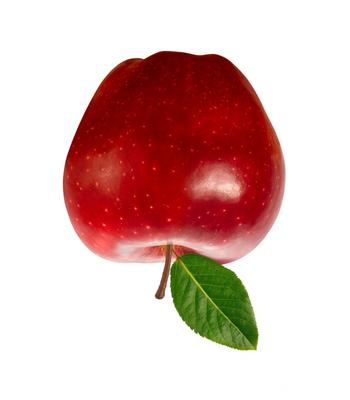apple: (0, 0, 350, 400)
